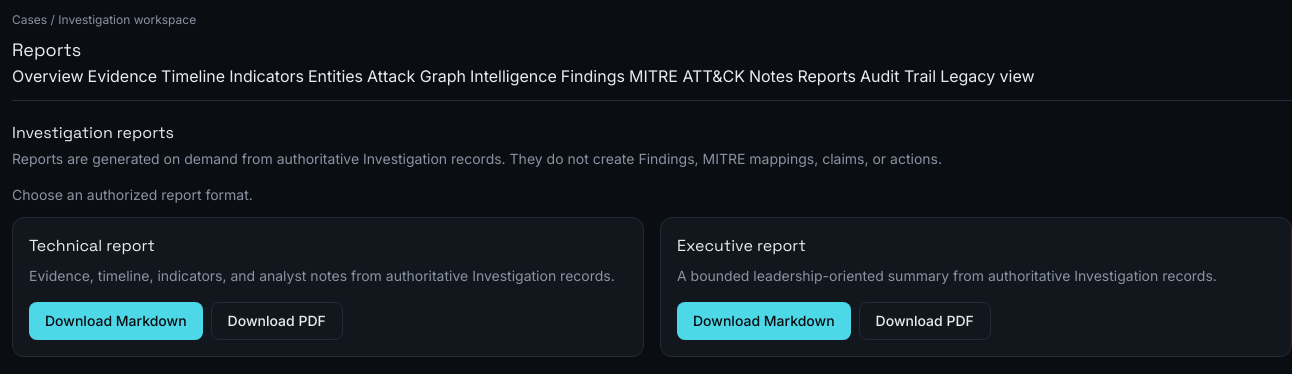
ReportsWorkspace › renders only authoritative report formats and initiates a safe markdown download
This screenshot has width=1292, height=374.
Check: the heading "Technical report" is shown, box [29,235,155,256]
Check: the heading "Executive report" is shown, box [677,235,806,256]
What coordinates should you click on to do the following:
click the button "Download Markdown" below "Technical report"
I would click on:
 (116, 321)
Its box is [29,302,203,340].
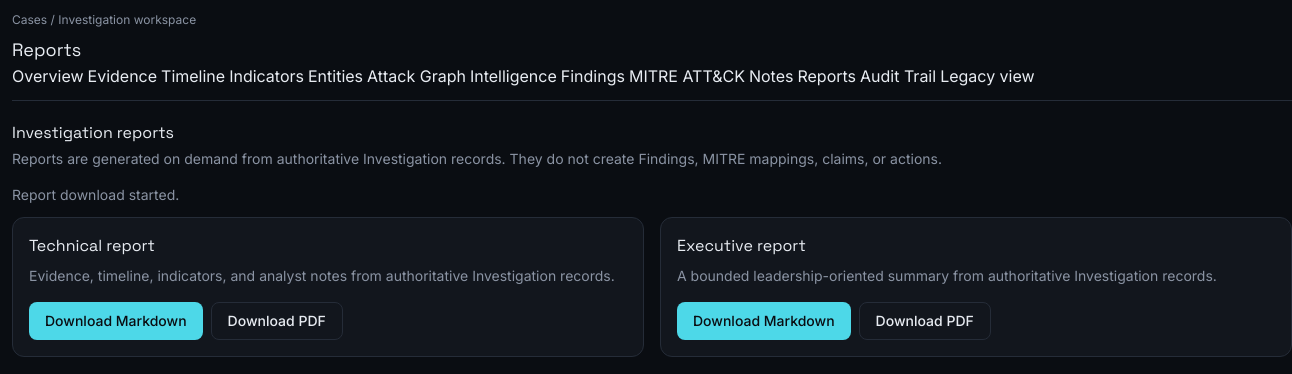
Check: the text "Report download started." is shown, box [12,186,179,203]
